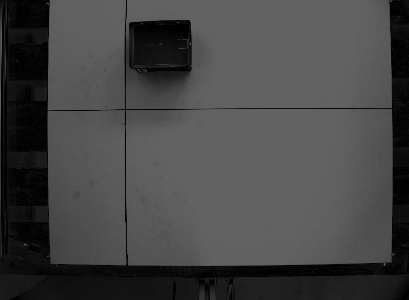klts: (126, 17, 195, 74)
